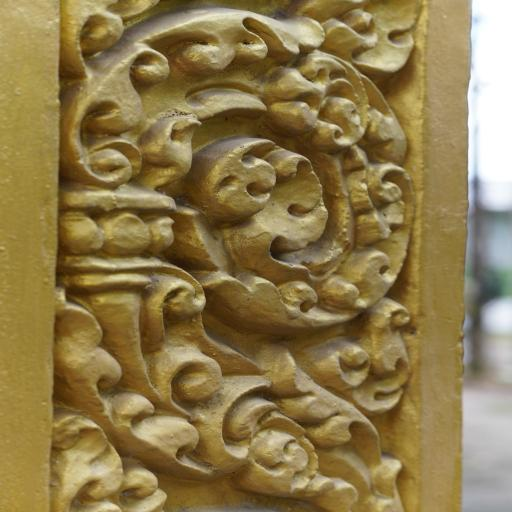la: (46, 0, 446, 512)
